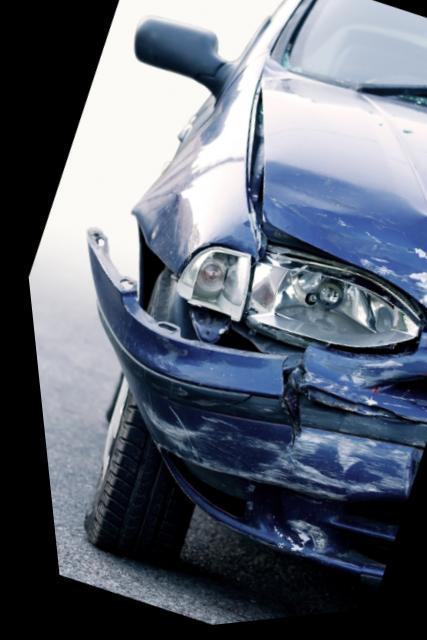crack: (270, 363, 293, 457), (186, 399, 242, 412)
dent: (260, 171, 427, 321)
dislocated part: (80, 221, 303, 552)
lamp broken: (169, 251, 413, 355)
scratch: (127, 365, 427, 504), (254, 522, 317, 560)
